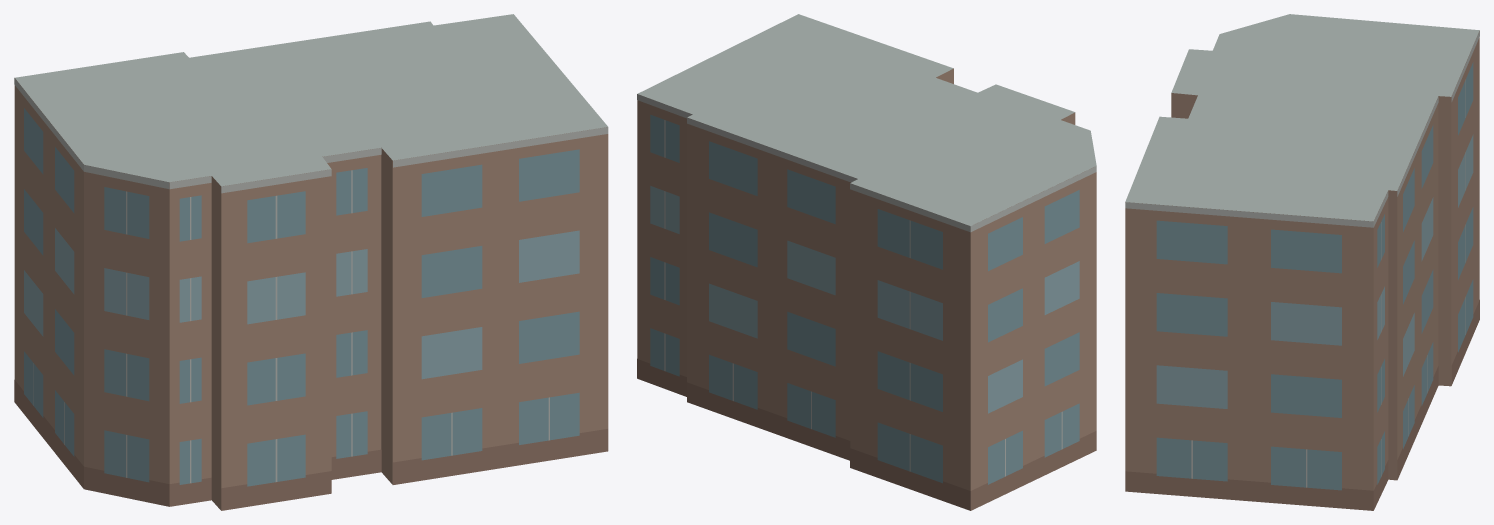
The model's file is survey-upis-32994379.glb.
3 renders of one model, left to right at view 1: azimuth 30°, elevation 25°; view 2: azimuth 150°, elevation 25°; view 3: azimuth 270°, elevation 25°, orthographic. The views are drawn at different scales.
Visible parts, largest first — view 1: survey-upis-32994379.tmp; view 2: survey-upis-32994379.tmp; view 3: survey-upis-32994379.tmp.
Part boxes in pixels (x1,y1,x2,y2): survey-upis-32994379.tmp: [14, 14, 608, 510]; survey-upis-32994379.tmp: [637, 14, 1096, 510]; survey-upis-32994379.tmp: [1125, 14, 1479, 510].
Size of the model in its own units: 17.38 by 11.3 by 12.56.
